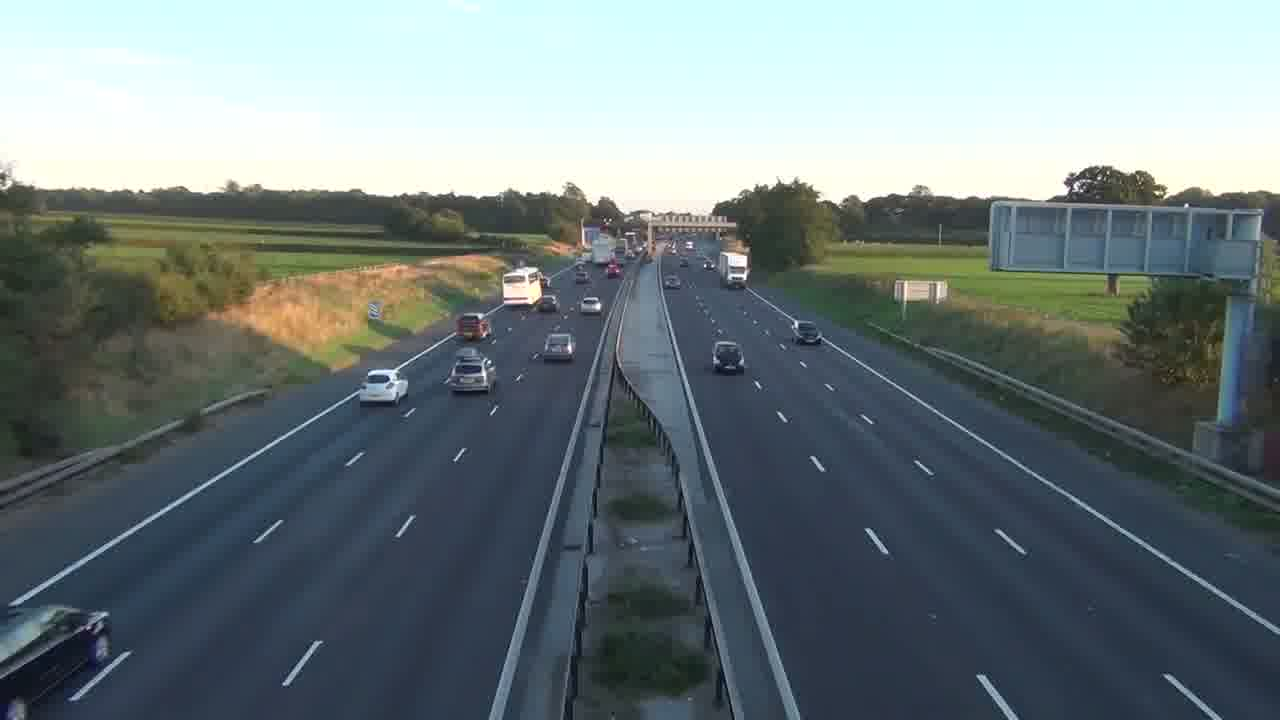car: (359, 368, 408, 405), (446, 358, 494, 394), (712, 340, 745, 374), (542, 331, 576, 363), (794, 320, 823, 345)
truck: (501, 267, 545, 306), (719, 251, 750, 289)
